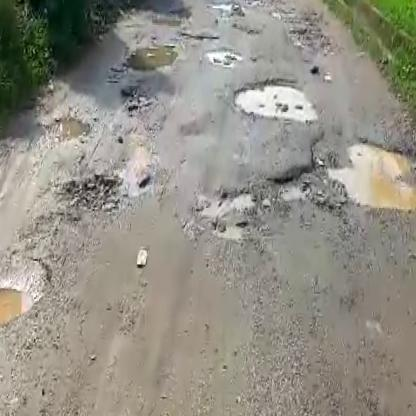pothole: (272, 129, 416, 216), (228, 75, 319, 126), (0, 253, 55, 332), (186, 188, 257, 245), (57, 168, 126, 217), (40, 112, 93, 146), (125, 43, 179, 73), (204, 46, 241, 66), (179, 27, 222, 42)
